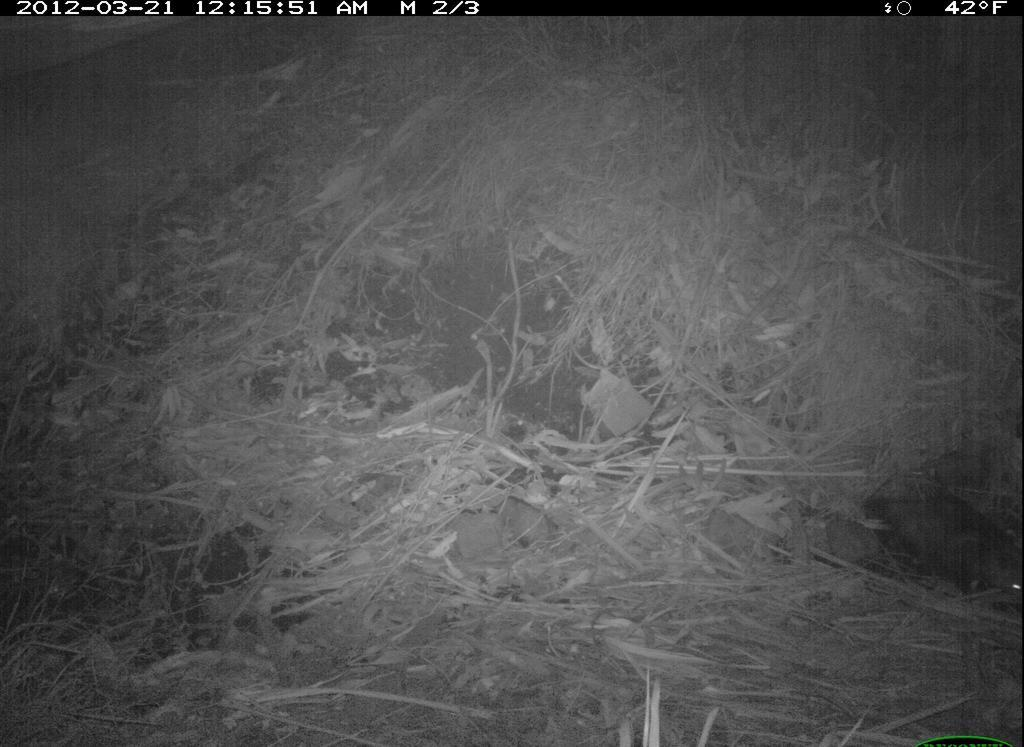opossum: (849, 473, 1024, 618)
